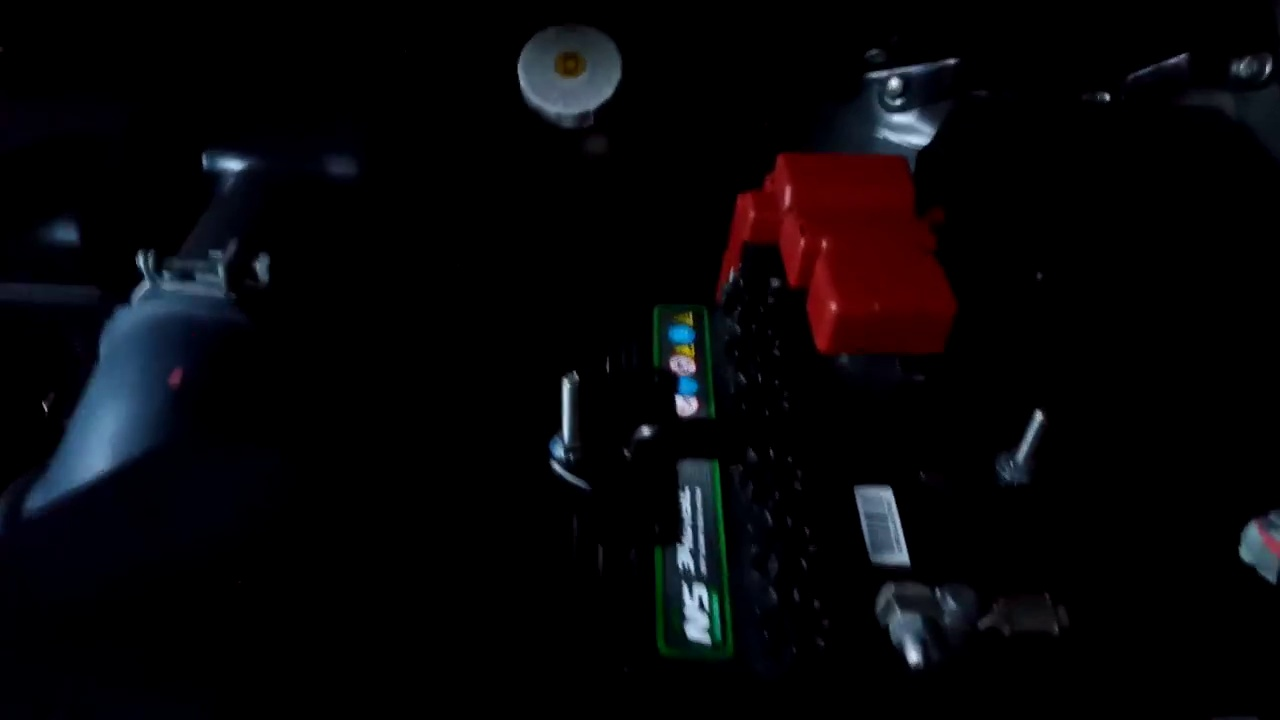battery: (637, 292, 1029, 682)
neg_connected: (859, 533, 1073, 670)
pos_connected: (732, 132, 971, 371)
